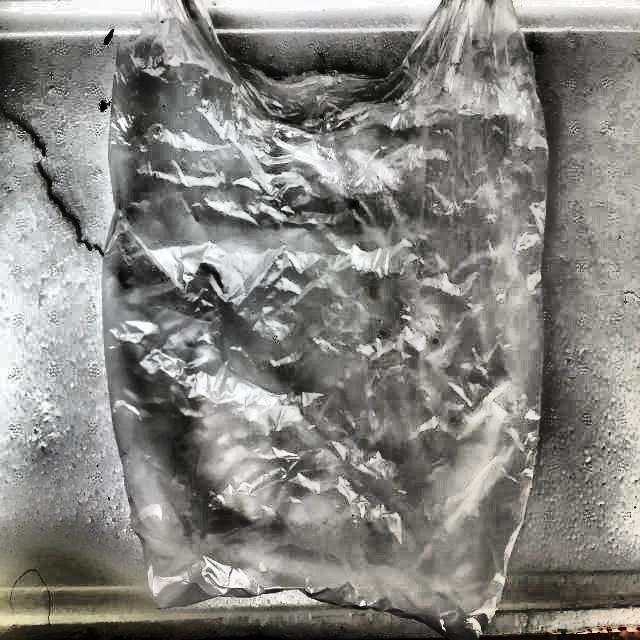Single-layer Plastic: (105, 0, 546, 640)
